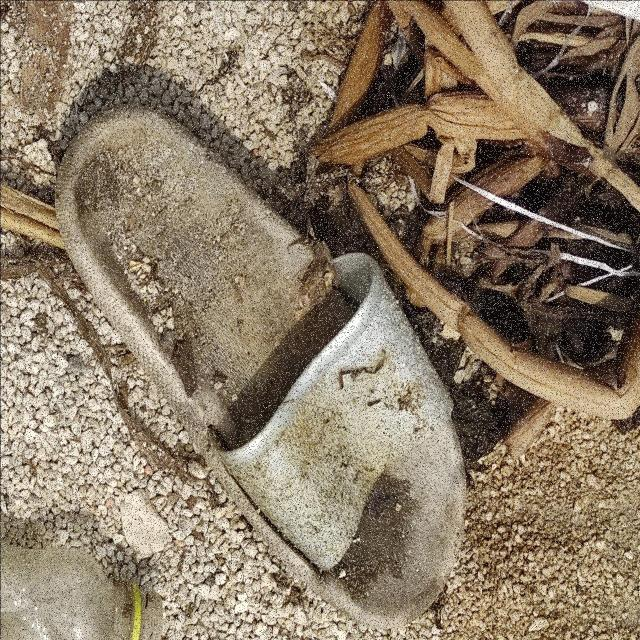plastic_waste: (1, 539, 164, 639)
rubber_waste: (56, 103, 468, 627)
